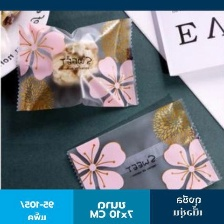snack: (61, 93, 224, 188), (8, 12, 146, 116)
